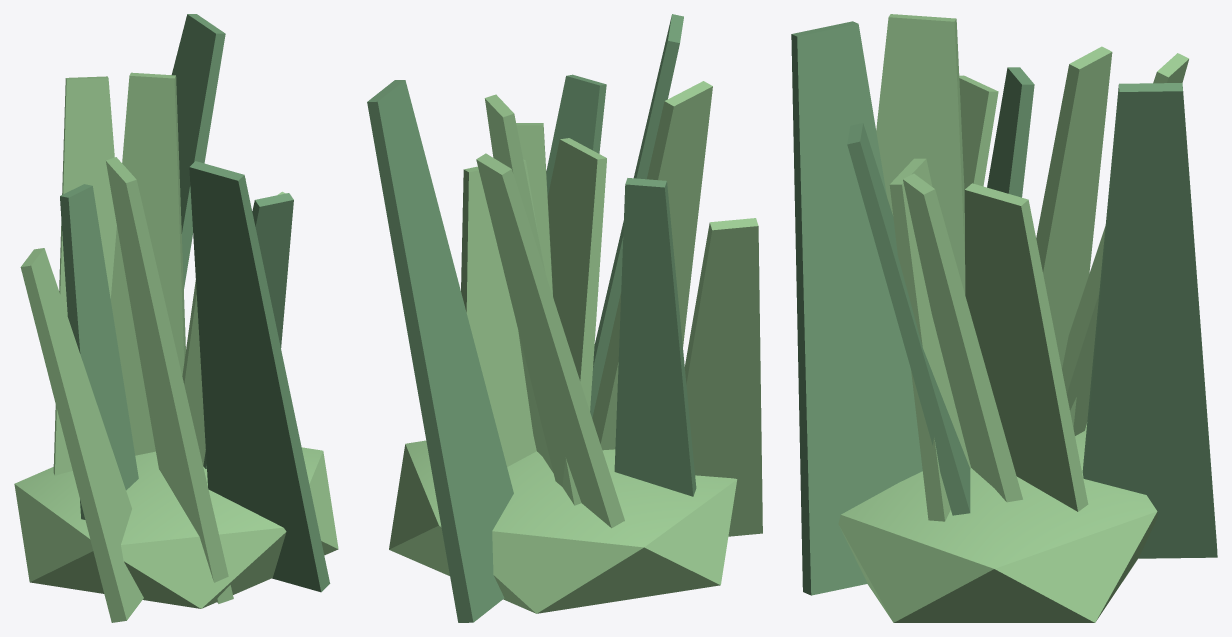
File: hearthvale_grass_clump.glb
3 views of the same model, side by side, from view 1: azimuth 30°, elevation 25°; view 2: azimuth 150°, elevation 25°; view 3: azimuth 270°, elevation 25° (orthographic). The views are drawn at different scales.
Parts seen in each view (by area): view 1: hearthvale_grass_clump; view 2: hearthvale_grass_clump; view 3: hearthvale_grass_clump.
Part boxes in pixels (x1=…): hearthvale_grass_clump: x1=14, y1=14, x2=338, y2=622; hearthvale_grass_clump: x1=367, y1=14, x2=762, y2=622; hearthvale_grass_clump: x1=791, y1=14, x2=1217, y2=622.
Bounding box in the file's own units: 0.2654 × 0.3921 × 0.2667.
